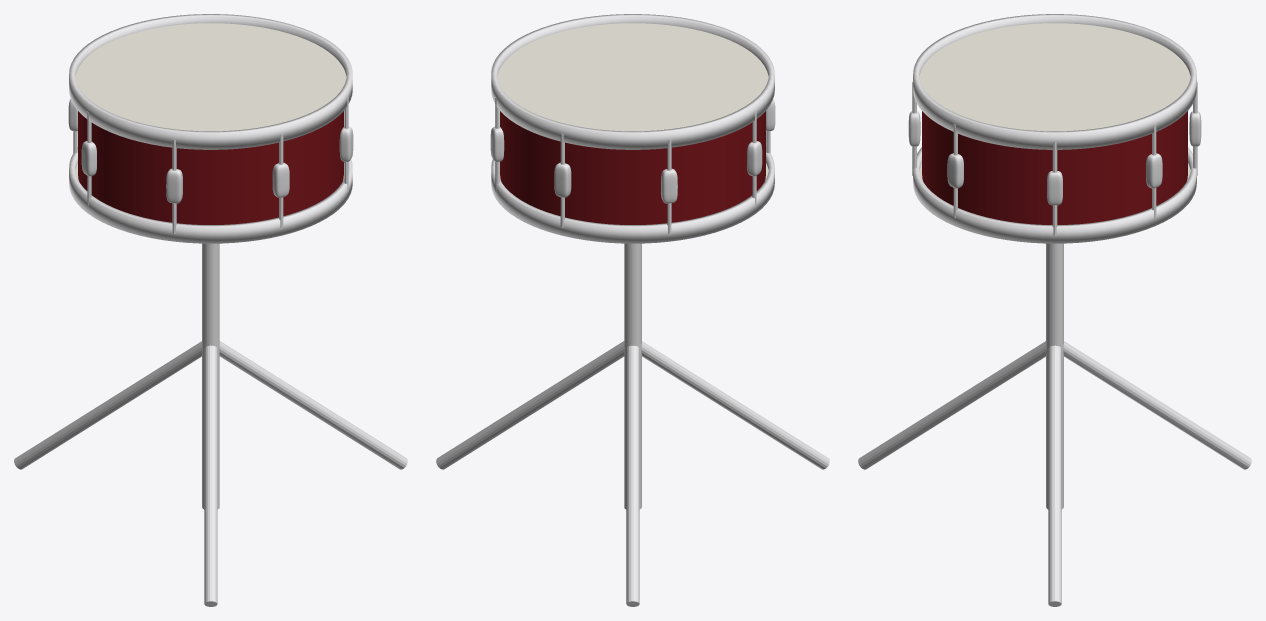
File: snare-red.glb
3 views of the same model, side by side, from view 1: azimuth 30°, elevation 25°; view 2: azimuth 150°, elevation 25°; view 3: azimuth 270°, elevation 25° (orthographic).
Visible parts, largest first — view 1: chrome, drumhead, paint_primary_shell; view 2: chrome, drumhead, paint_primary_shell; view 3: chrome, drumhead, paint_primary_shell.
Boxes of the visible parts, x1,y1,x2,y2 form: chrome: (14, 14, 407, 606); drumhead: (75, 23, 346, 180); paint_primary_shell: (78, 111, 343, 224); chrome: (436, 14, 829, 606); drumhead: (497, 23, 768, 180); paint_primary_shell: (500, 111, 765, 224); chrome: (858, 14, 1251, 606); drumhead: (919, 23, 1190, 180); paint_primary_shell: (922, 111, 1187, 224).
Bounding box in the file's own units: 0.5037 × 0.6589 × 0.533.
